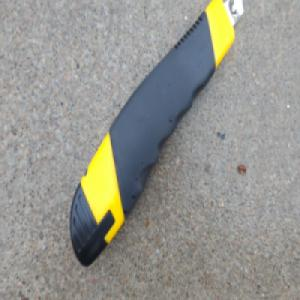Cutter: (71, 1, 240, 263)
